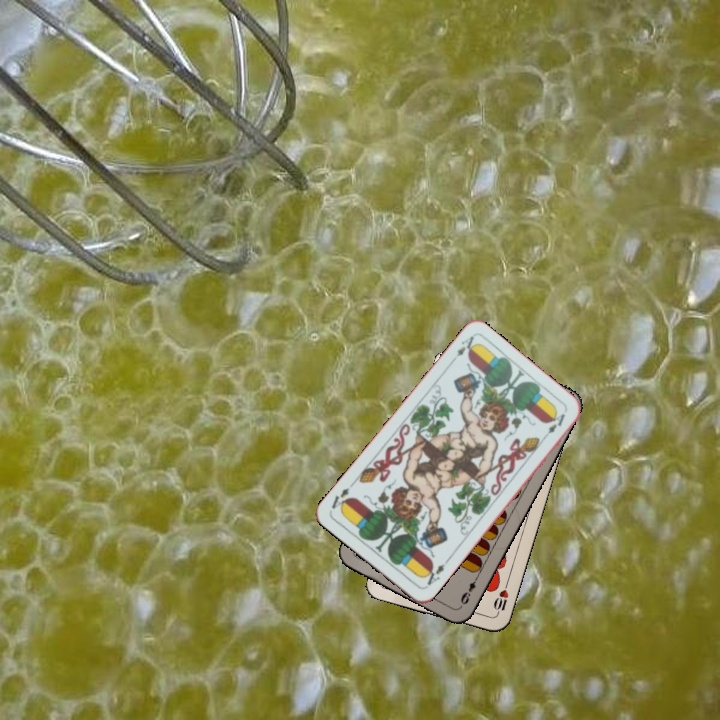E9: (456, 571, 481, 609)
EA: (446, 332, 479, 366), (419, 555, 451, 590)
H10: (489, 579, 511, 619)
